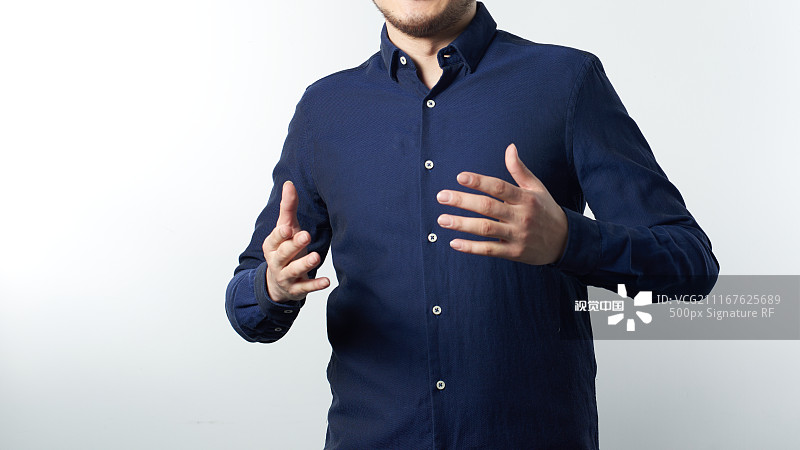no-phone: (424, 127, 572, 285), (252, 174, 338, 314)
